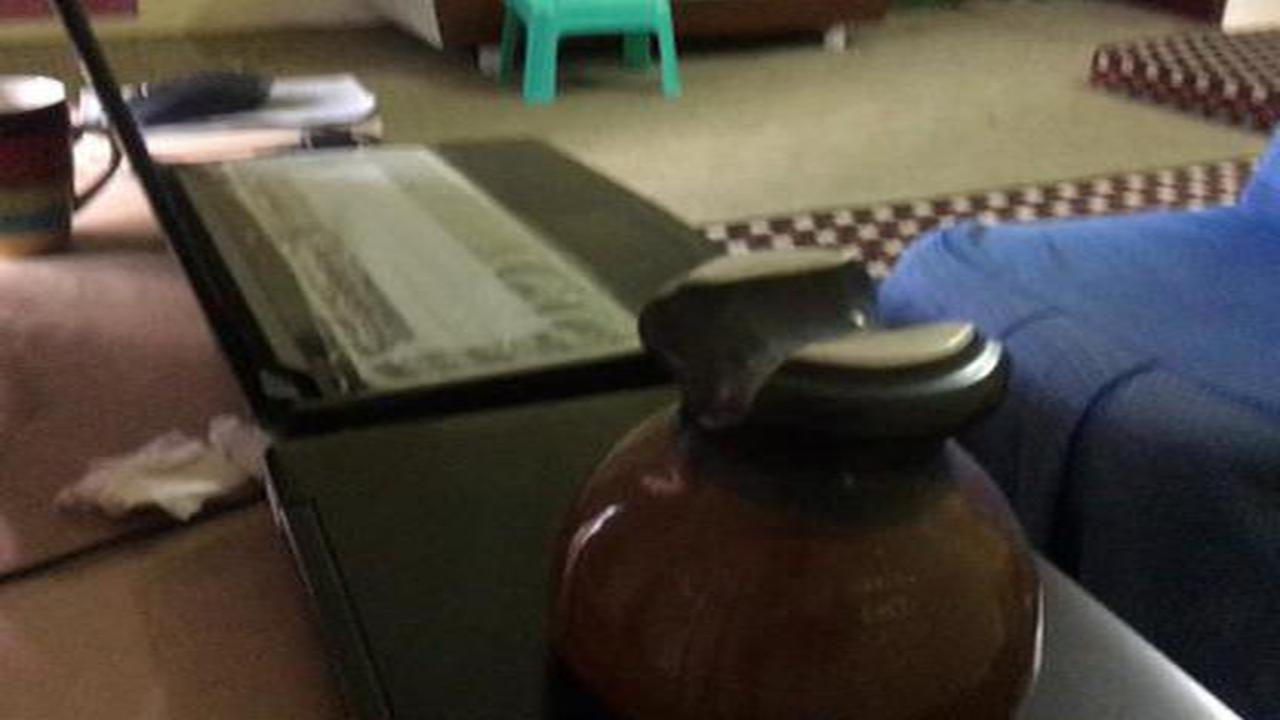insulator_pin: (530, 238, 1059, 714)
